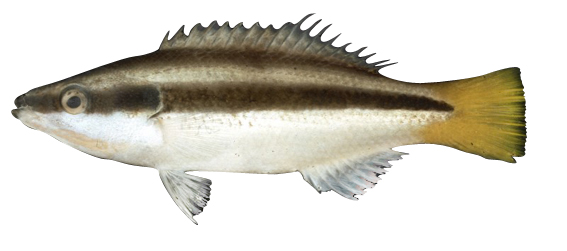fish: (11, 13, 527, 224)
